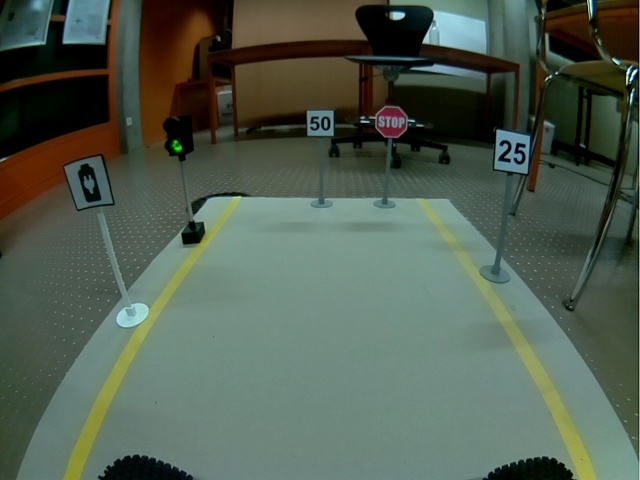battery: (63, 153, 115, 211)
speed25: (492, 127, 532, 176)
speed50: (305, 109, 335, 137)
stop: (375, 105, 408, 139)
trafficLightGreen: (162, 115, 194, 156)
